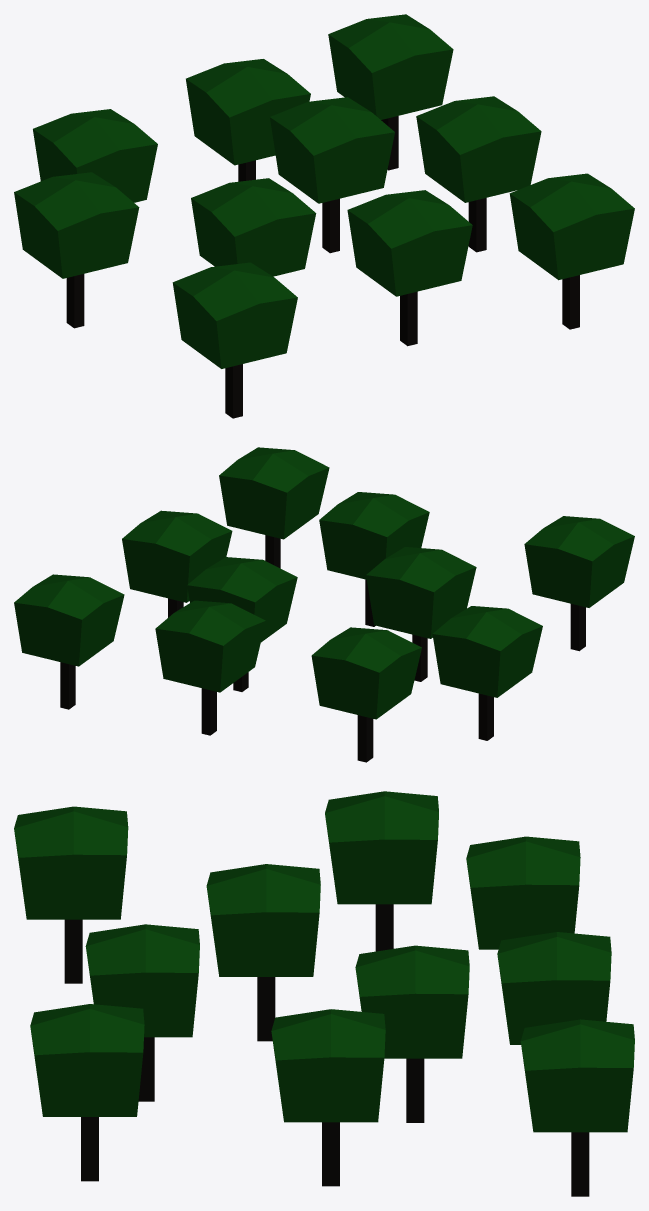
Rendered from tree_two.ddb2b1b0.obj.
The picture shows the model from 3 angles, top to bottom: view 1: azimuth 30°, elevation 25°; view 2: azimuth 150°, elevation 25°; view 3: azimuth 270°, elevation 25°; orthographic projection. The views are drawn at different scales.
Parts seen in each view (by area): view 1: Three_2_Cube.048; view 2: Three_2_Cube.048; view 3: Three_2_Cube.048.
Part boxes in pixels (x1,y1,x2,y2): Three_2_Cube.048: [14, 14, 634, 418]; Three_2_Cube.048: [14, 447, 634, 762]; Three_2_Cube.048: [14, 791, 634, 1196].
Bounding box in the file's own units: 1.75 × 0.5023 × 1.67.
